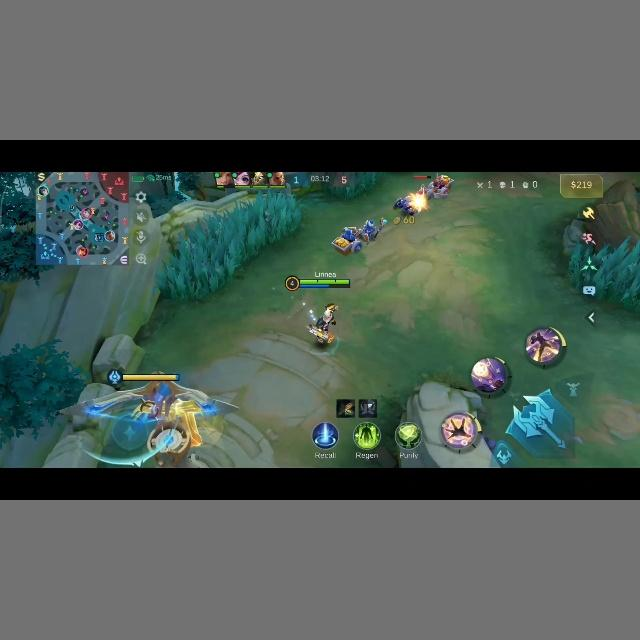hp_enemy: (412, 175, 431, 179)
hp_self: (101, 370, 181, 387), (297, 278, 348, 285)
minion_ally: (333, 218, 385, 255), (392, 193, 422, 216)
minion_enemy: (426, 175, 453, 199)
turret_ally: (124, 378, 215, 459)
